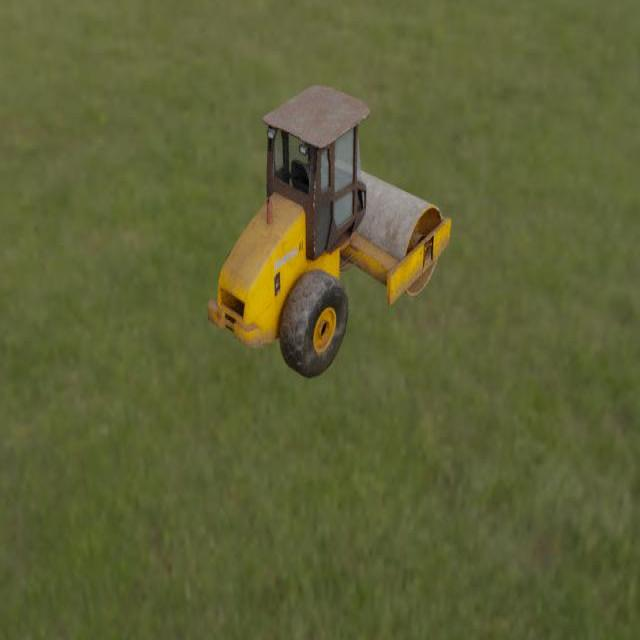Roller: (206, 84, 451, 379)
